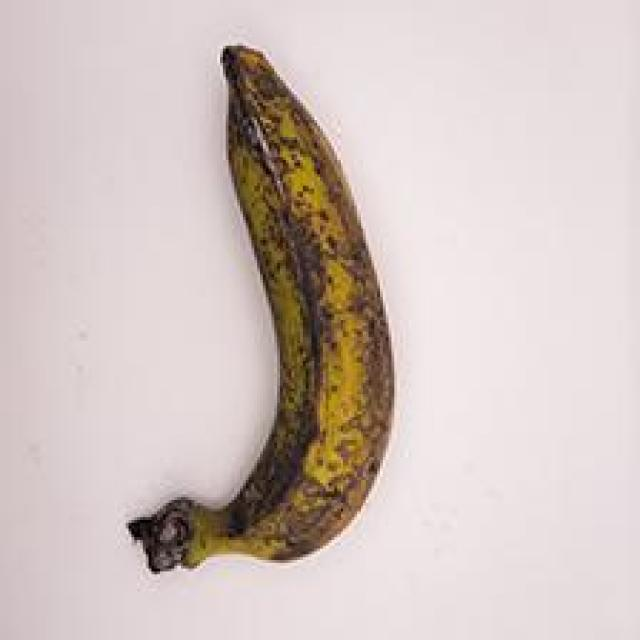Overripe: (93, 26, 436, 594)
